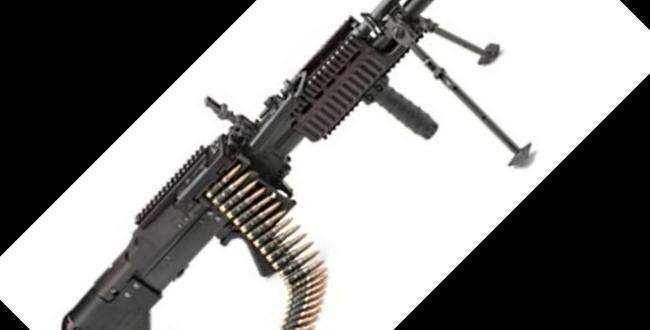larga: (60, 0, 533, 330)
